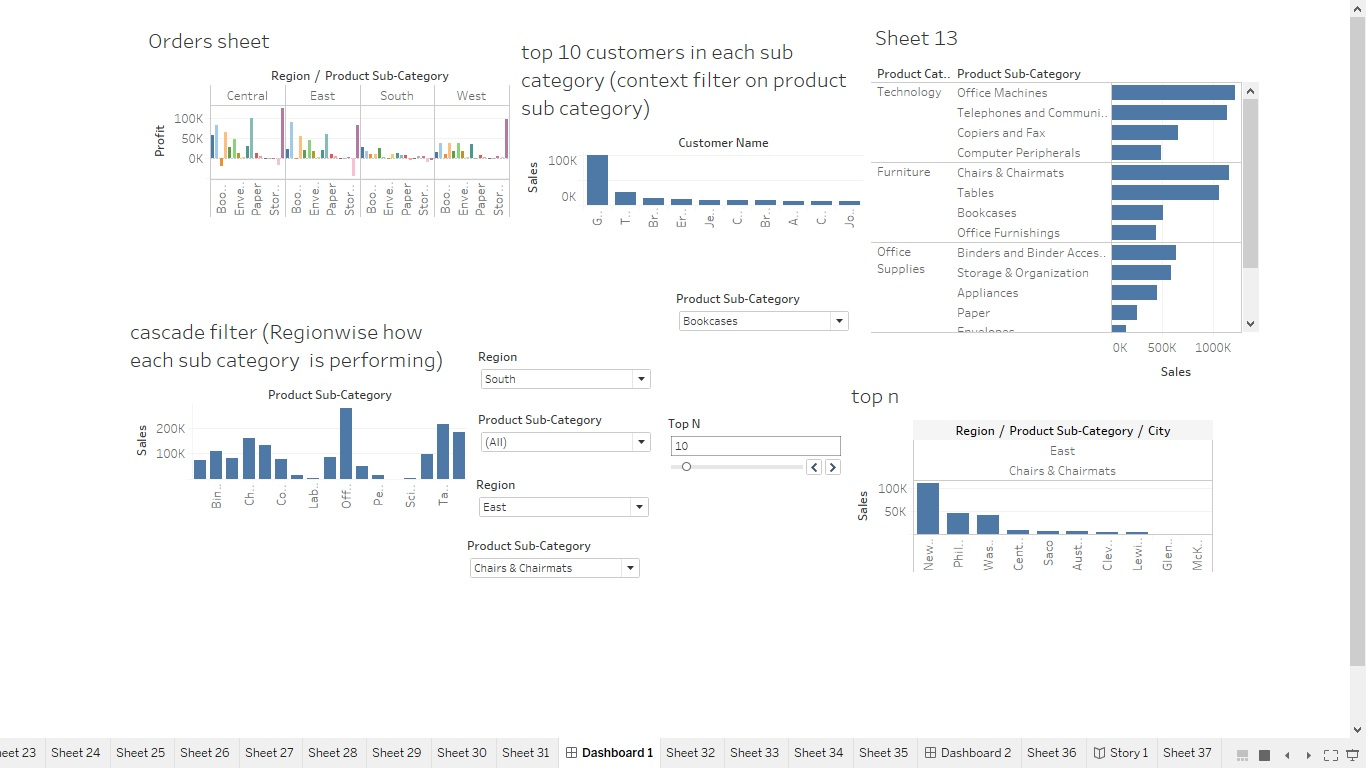

The dashboard page shown, as its layout file describes it:
{"tool":"tableau","page":{"name":"Dashboard 1","canvas":[1100,800],"ordinal":0},"visuals":[{"type":"worksheet","title":"Sheet 13","mark":"Automatic","rows":["Product Category","Product Sub-Category"],"cols":["Sales"],"box":[701.8,21,388.3,369]},{"type":"worksheet","title":"Sheet 1","mark":"Automatic","rows":["Profit"],"cols":["Region","Product Sub-Category"],"box":[19.8,22,366.3,197]},{"type":"worksheet","title":"Sheet 4","mark":"Automatic","rows":["Sales"],"cols":["Customer Name"],"box":[431.2,33,366.3,197]},{"type":"filter","title":"Sheet 4","param":"[federated.19rsqun1onpsf81007rov0e8wncu].[none:Product Sub-Category:nk]","box":[552.2,290,176,44]},{"type":"worksheet","title":"Sheet 5","mark":"Automatic","rows":["Sales"],"cols":["Product Sub-Category"],"box":[2.2,313,341,198]},{"type":"filter","title":"Sheet 5","param":"[federated.19rsqun1onpsf81007rov0e8wncu].[none:Region:nk]","box":[354,348,176,44]},{"type":"worksheet","title":"Sheet 10","mark":"Automatic","rows":["Sales"],"cols":["Region","Product Sub-Category","City"],"box":[722.7,377,366.3,197]},{"type":"filter","title":"Sheet 5","param":"[federated.19rsqun1onpsf81007rov0e8wncu].[none:Product Sub-Category:nk]","box":[354,411,176,50]},{"type":"parameter","param":"[Parameters].[Parameter 1]","box":[544,415,176,67]},{"type":"filter","title":"Sheet 10","param":"[federated.19rsqun1onpsf81007rov0e8wncu].[none:Region:nk]","box":[352,476,176,44]},{"type":"filter","title":"Sheet 10","param":"[federated.19rsqun1onpsf81007rov0e8wncu].[none:Product Sub-Category:nk]","box":[343,537,176,44]}]}

Visuals, with their boxes on the page's 1100x800 design canvas (x1, y1, x2, y2). These are canvas units, not pixel positions in the 1366x768 screenshot, which may show the page scaled, cropped or inside an application window:
"Sheet 13" worksheet: [702,21,1090,390]
"Sheet 1" worksheet: [20,22,386,219]
"Sheet 4" worksheet: [431,33,798,230]
"Sheet 4" filter: [552,290,728,334]
"Sheet 5" worksheet: [2,313,343,511]
"Sheet 5" filter: [354,348,530,392]
"Sheet 10" worksheet: [723,377,1089,574]
"Sheet 5" filter: [354,411,530,461]
parameter: [544,415,720,482]
"Sheet 10" filter: [352,476,528,520]
"Sheet 10" filter: [343,537,519,581]
